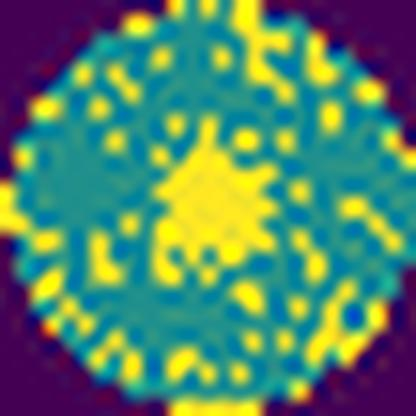Center: (154, 115, 282, 284)
